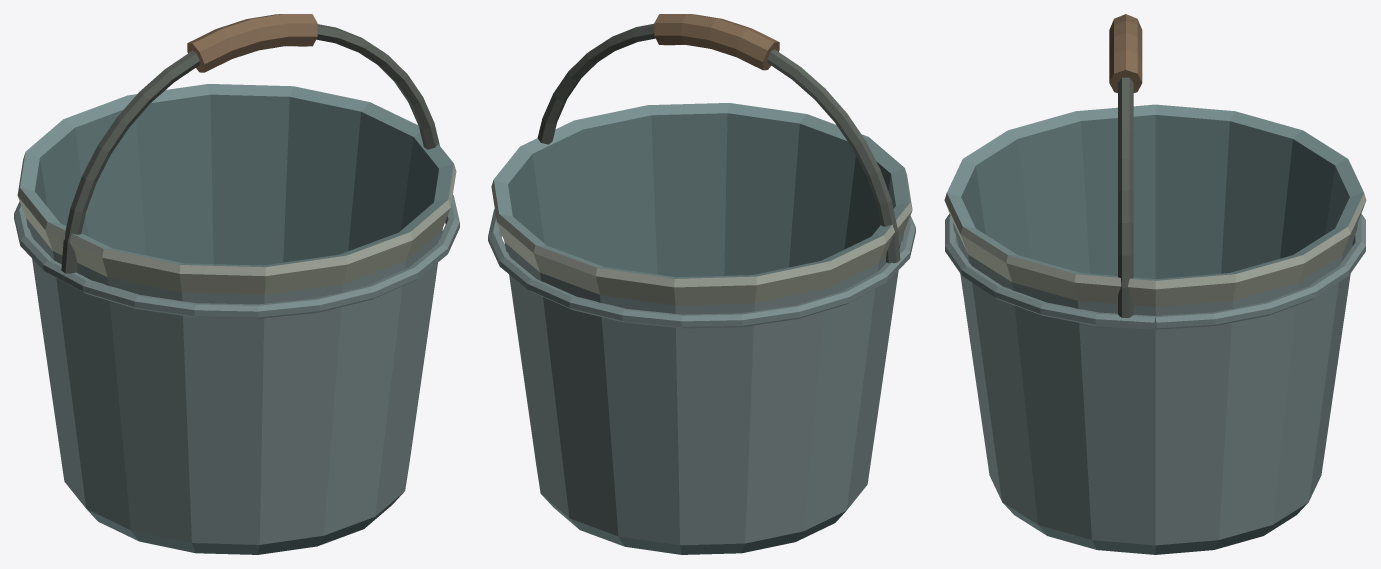
File: RinsePail.glb
3 renders of one model, left to right at view 1: azimuth 30°, elevation 25°; view 2: azimuth 150°, elevation 25°; view 3: azimuth 270°, elevation 25°, orthographic. The views are drawn at different scales.
Parts seen in each view (by area): view 1: RinsePail; view 2: RinsePail; view 3: RinsePail.
Part boxes in pixels (x1,y1,x2,y2): RinsePail: (14, 14, 459, 554); RinsePail: (488, 14, 915, 554); RinsePail: (944, 14, 1366, 554).
Size of the model in its own units: 0.3588 by 0.426 by 0.356.
